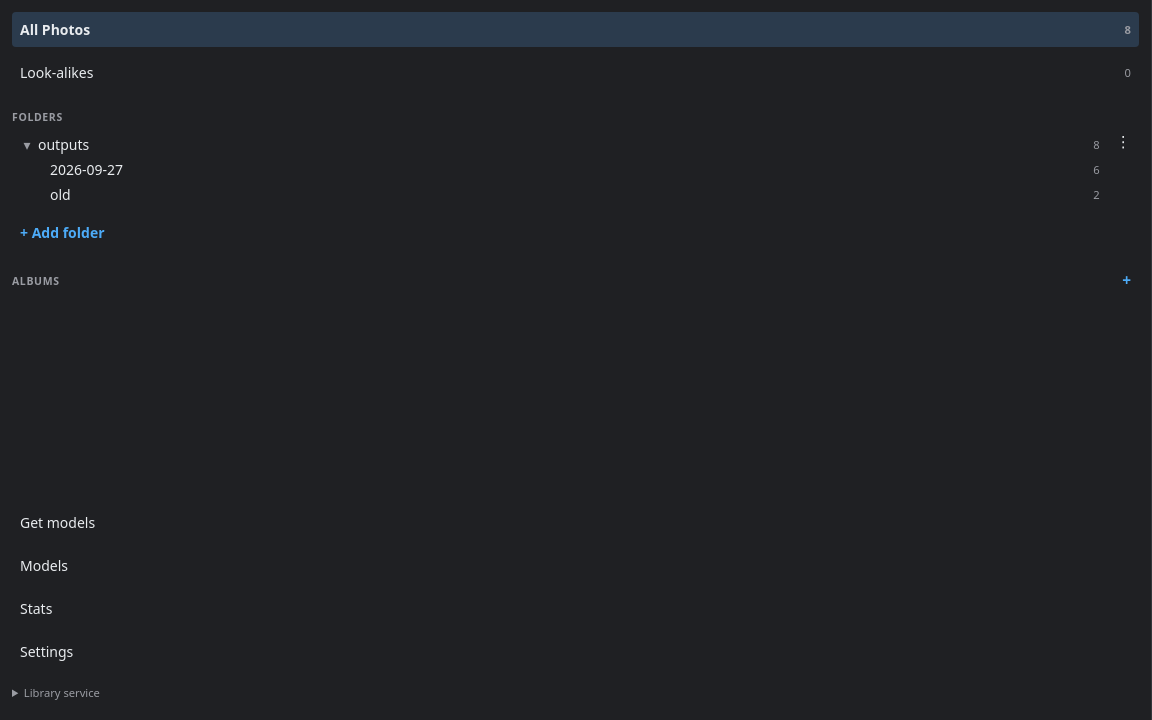
RootMenu › closes on Escape and on a click elsewhere
Click the button named "Actions for outputs": x=1123, y=142 left=1108, top=134, right=1139, bottom=149
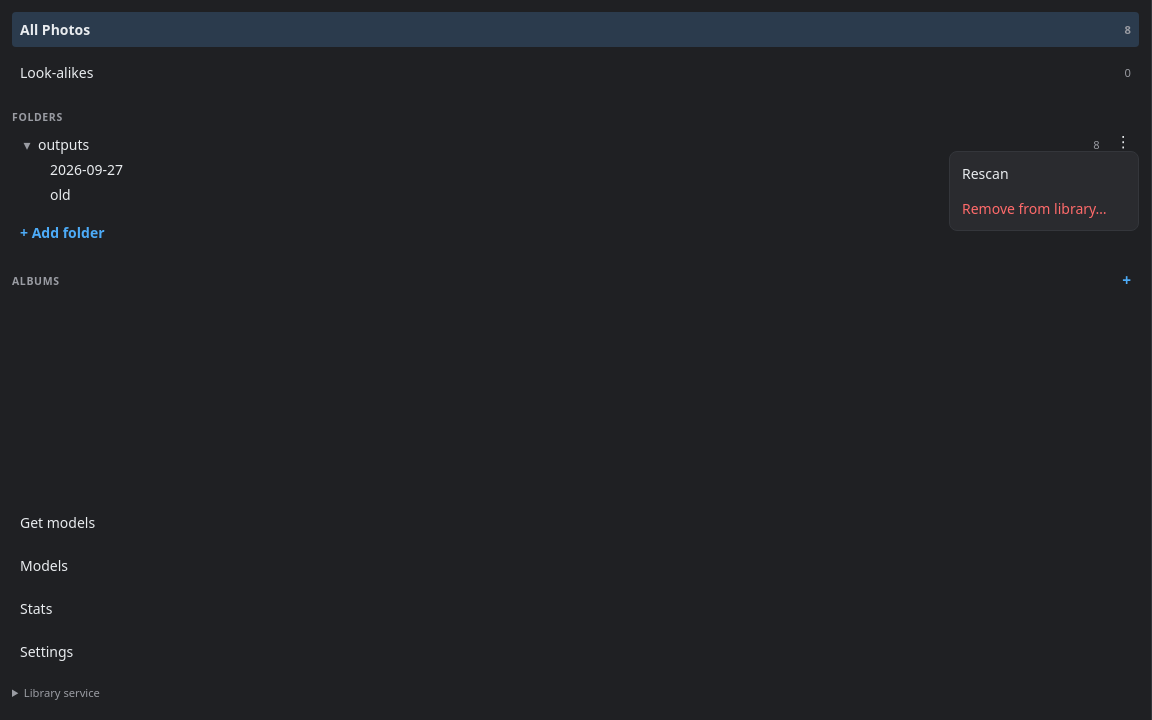
Now the menu is shown, box left=949, top=151, right=1139, bottom=231
Press Escape
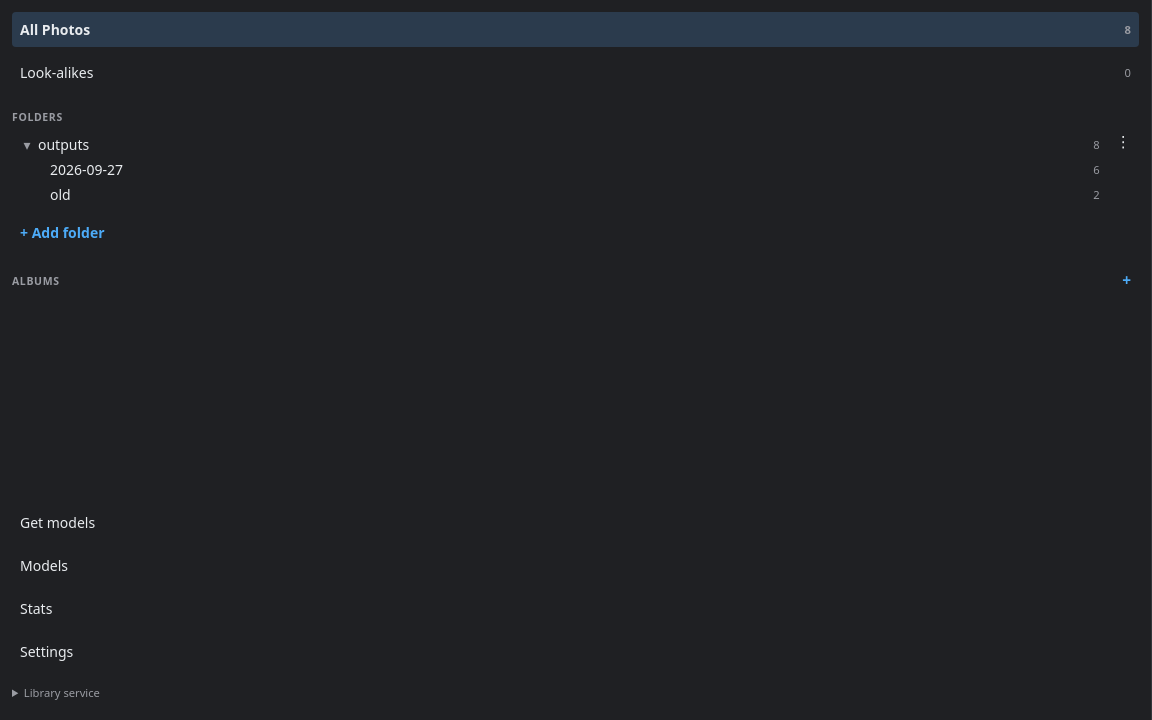
Now the menu is gone
Click the button named "Actions for outputs": x=1123, y=142 left=1108, top=134, right=1139, bottom=149
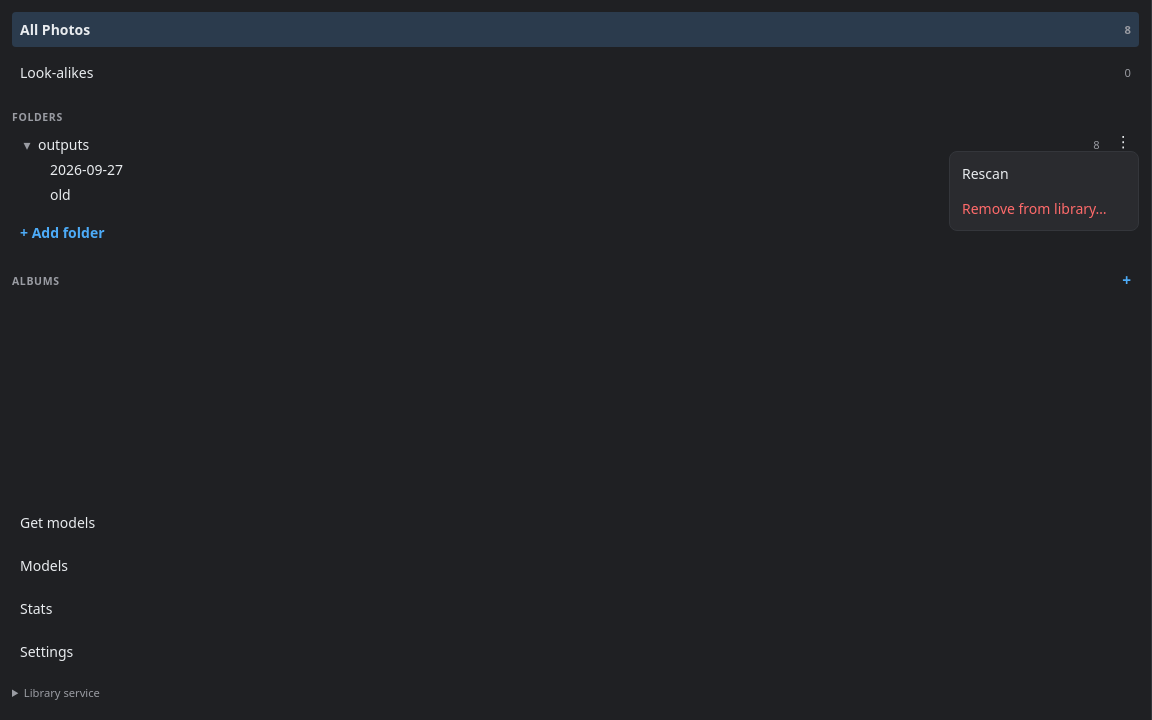
Click the element that starts with "All Photos": x=576, y=360 left=0, top=0, right=1151, bottom=719
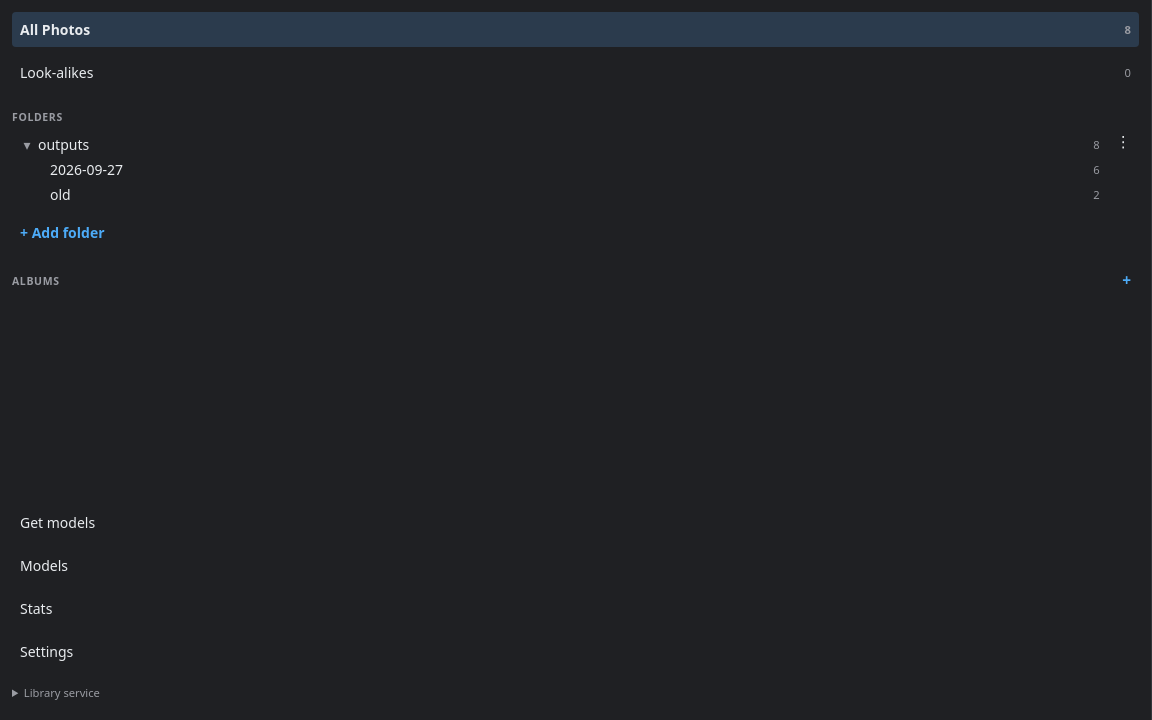
Now the menu is gone
